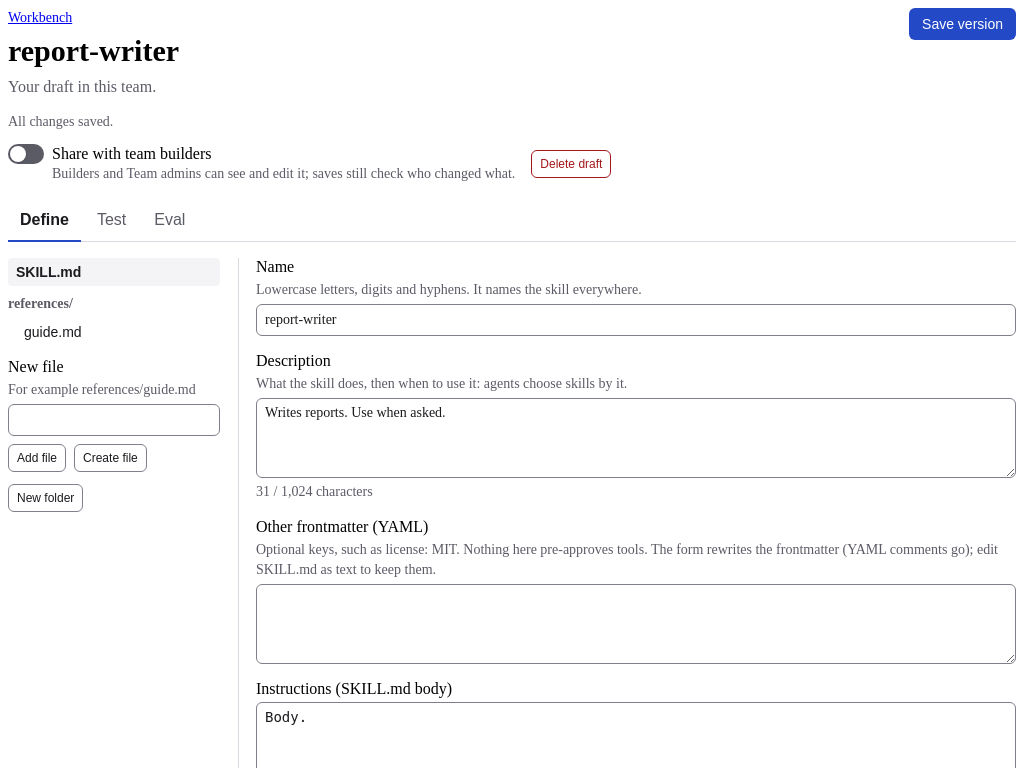
Scenario: the draft page's tabs (ac-1, ac-2) › shows Define, Test and Eval below the header, Save version, the status line and settings
This screenshot has width=1024, height=768.
Expected: the element named "Draft" is shown, [8,200,1016,242]
Expected: the tabs read "Define", "Test", "Eval", in this order, [8,200,81,242]; [85,200,138,242]; [142,200,197,242]
Another file in the tree shows in the rail.
Step 1. Click the button with aria-label "references/guide.md" → (114, 332), box [8,318,220,346]
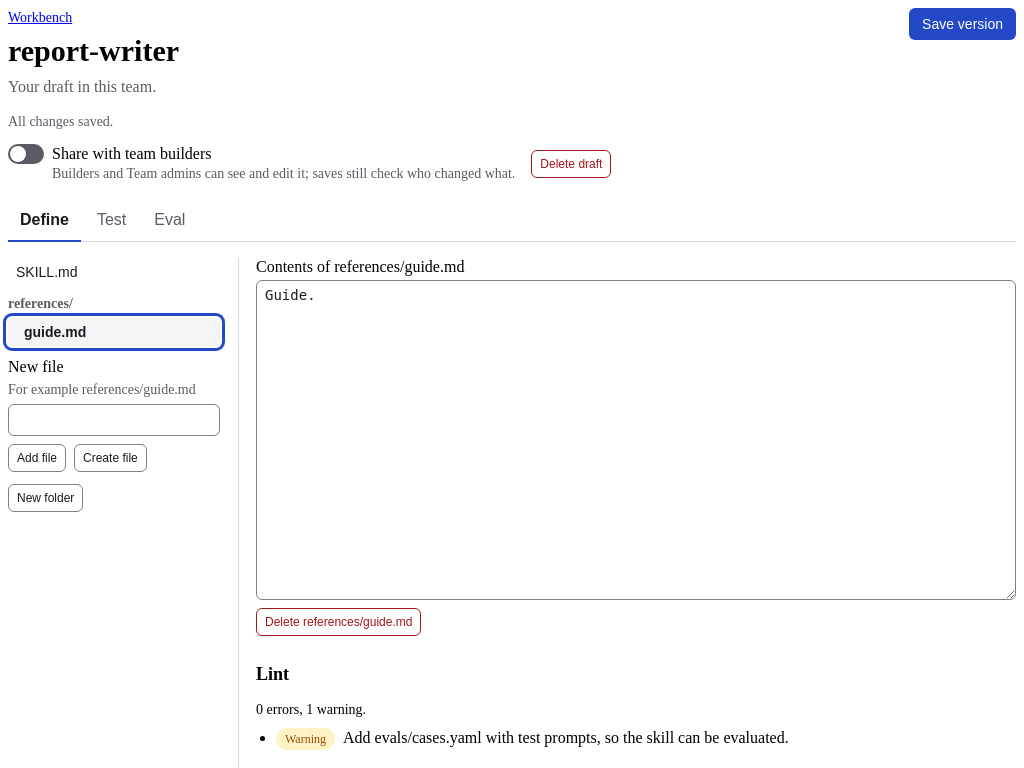
Now the text box labelled "Contents of references/guide.md" is shown, box [256,280,1016,600]
